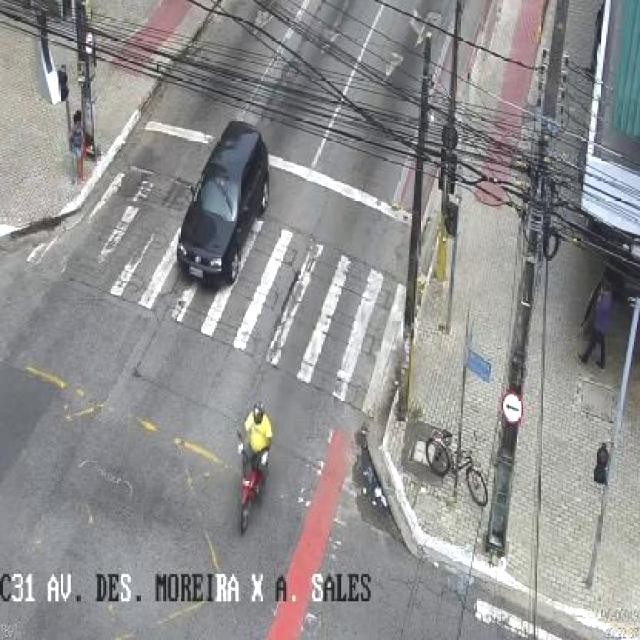Car: (173, 79, 268, 311)
Cycle: (227, 398, 279, 543)
